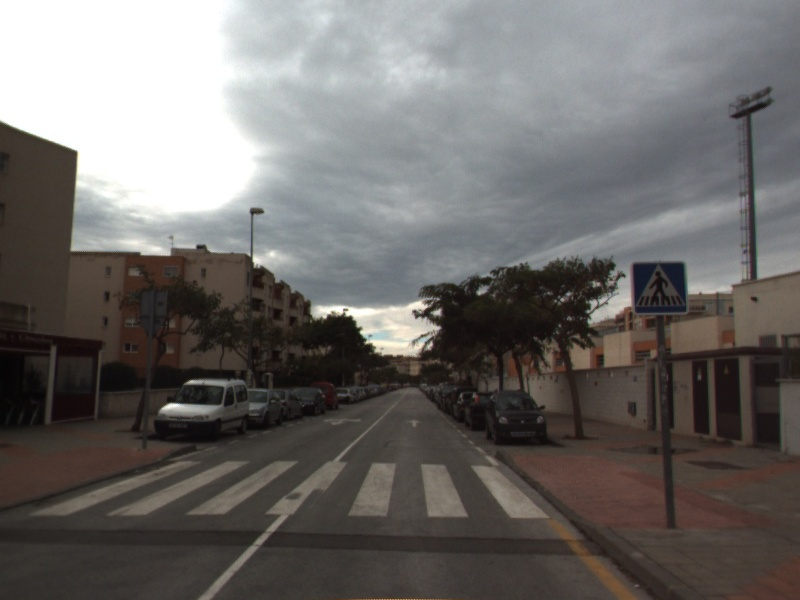STRAIGHT: (404, 417, 424, 429)
